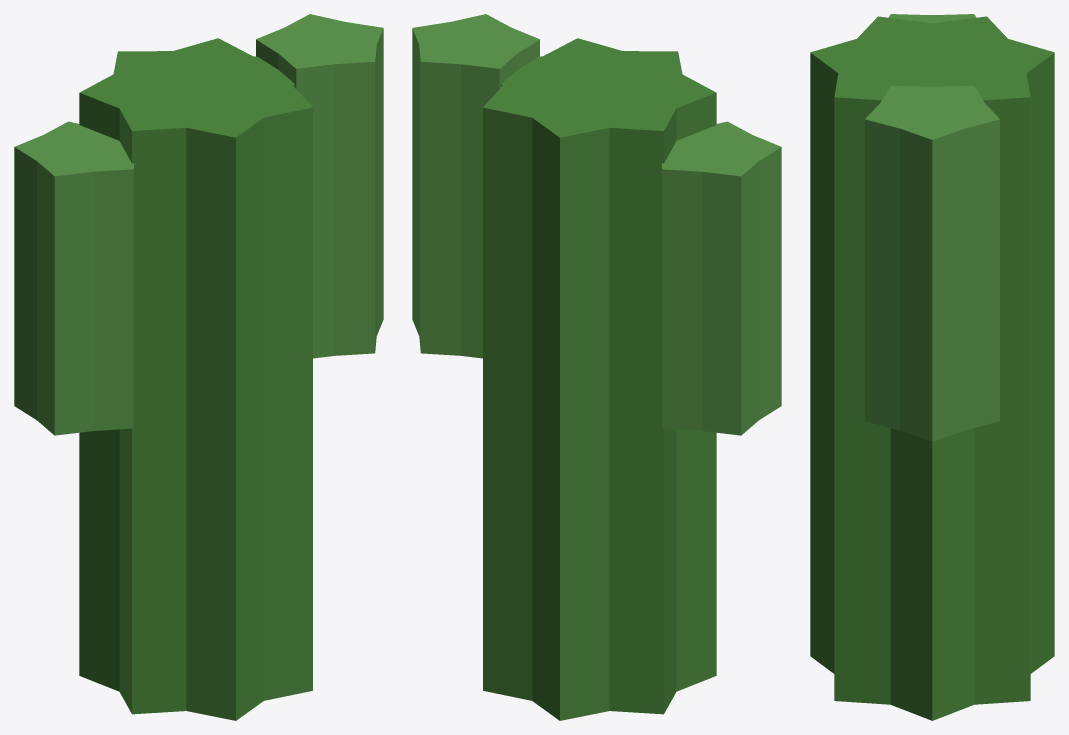
File: cactus.glb
The picture shows the model from 3 angles, left to right: view 1: azimuth 30°, elevation 25°; view 2: azimuth 150°, elevation 25°; view 3: azimuth 270°, elevation 25°; orthographic projection. The views are drawn at different scales.
Parts seen in each view (by area): view 1: cactus; view 2: cactus; view 3: cactus.
Part boxes in pixels (x1=…): cactus: x1=14, y1=14, x2=383, y2=720; cactus: x1=412, y1=14, x2=781, y2=720; cactus: x1=810, y1=14, x2=1054, y2=720.
Bounding box in the file's own units: 1.13 × 1.85 × 0.661.
